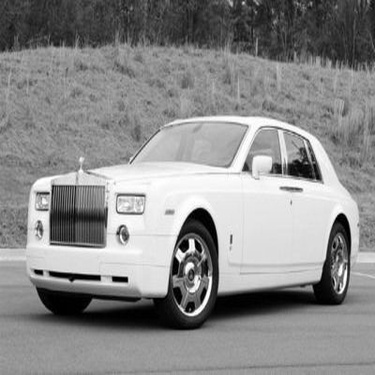car: (12, 104, 365, 333)
